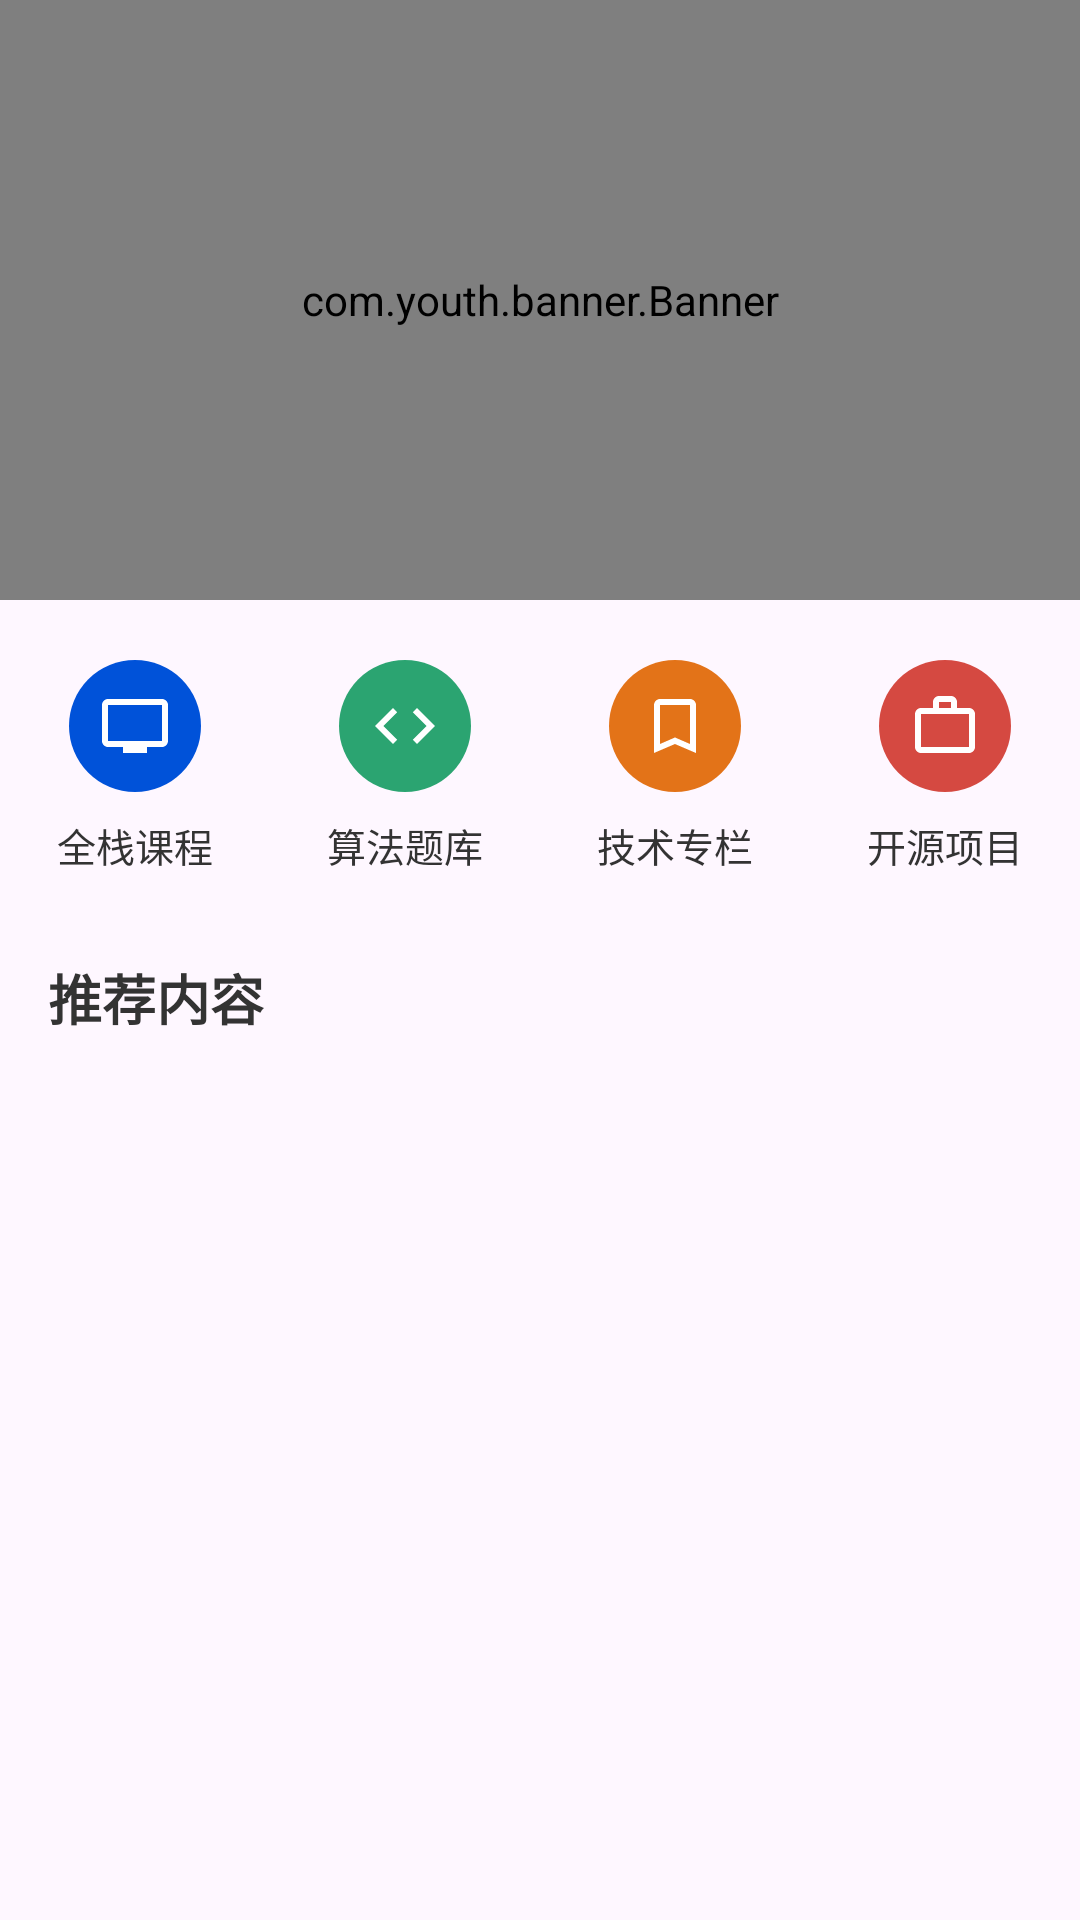

Screen size 1080px x 1920px. Icon name, then its box in pixels as [left=x1, top=y1, right=x2, bottom=y2]:
bookmark border: [left=609, top=660, right=741, bottom=792]
code: [left=339, top=660, right=471, bottom=792]
personal video: [left=69, top=660, right=201, bottom=792]
work: [left=879, top=660, right=1011, bottom=792]
